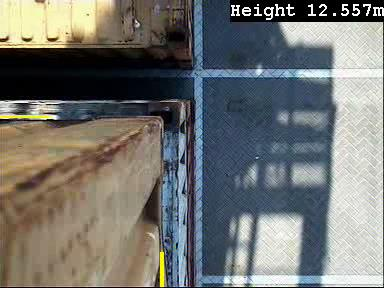groundmarker_2: (185, 156, 243, 195), (184, 219, 242, 258)
